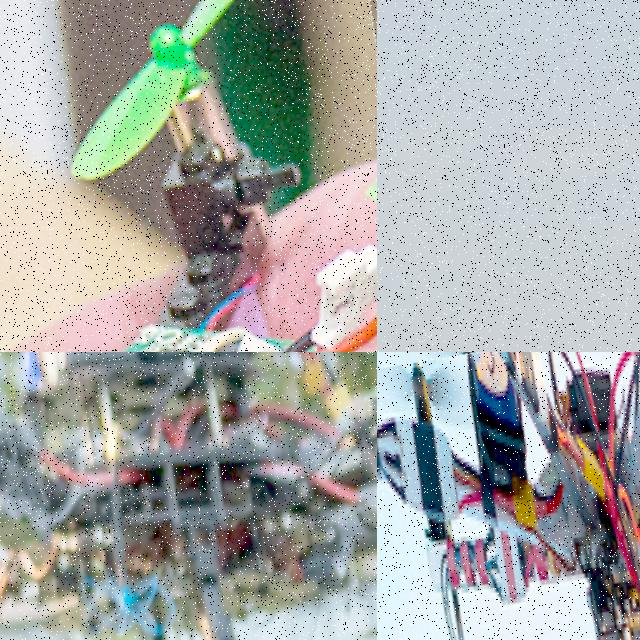drone: (0, 0, 377, 352), (0, 352, 377, 640), (377, 352, 640, 640)
